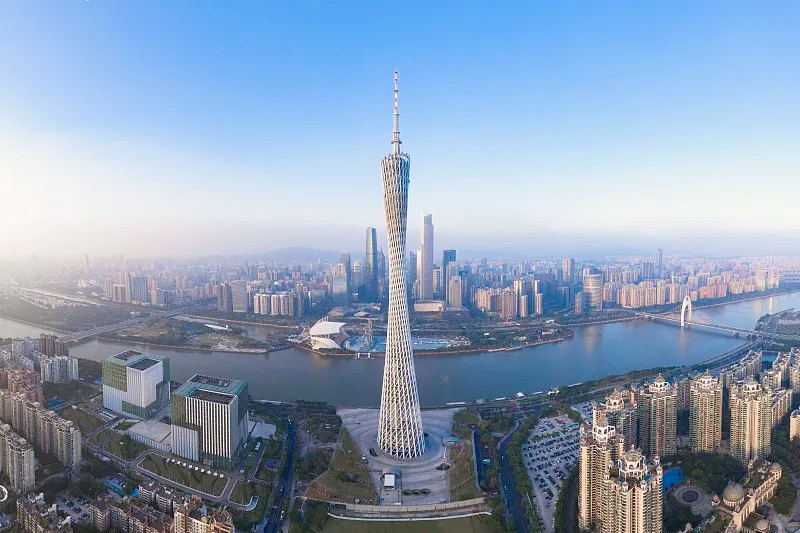Canton: (375, 68, 426, 459)
